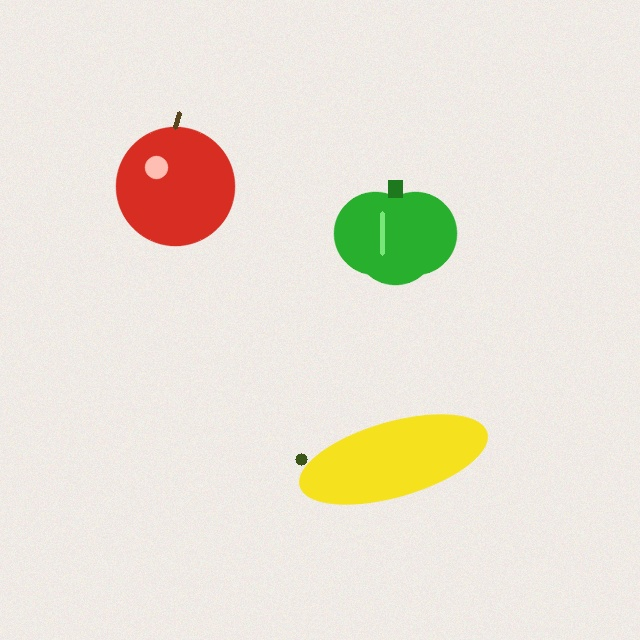Fresh apple: (116, 113, 234, 245)
Fresh banana: (292, 413, 494, 505)
Fresh bell pepper: (334, 180, 456, 284)
